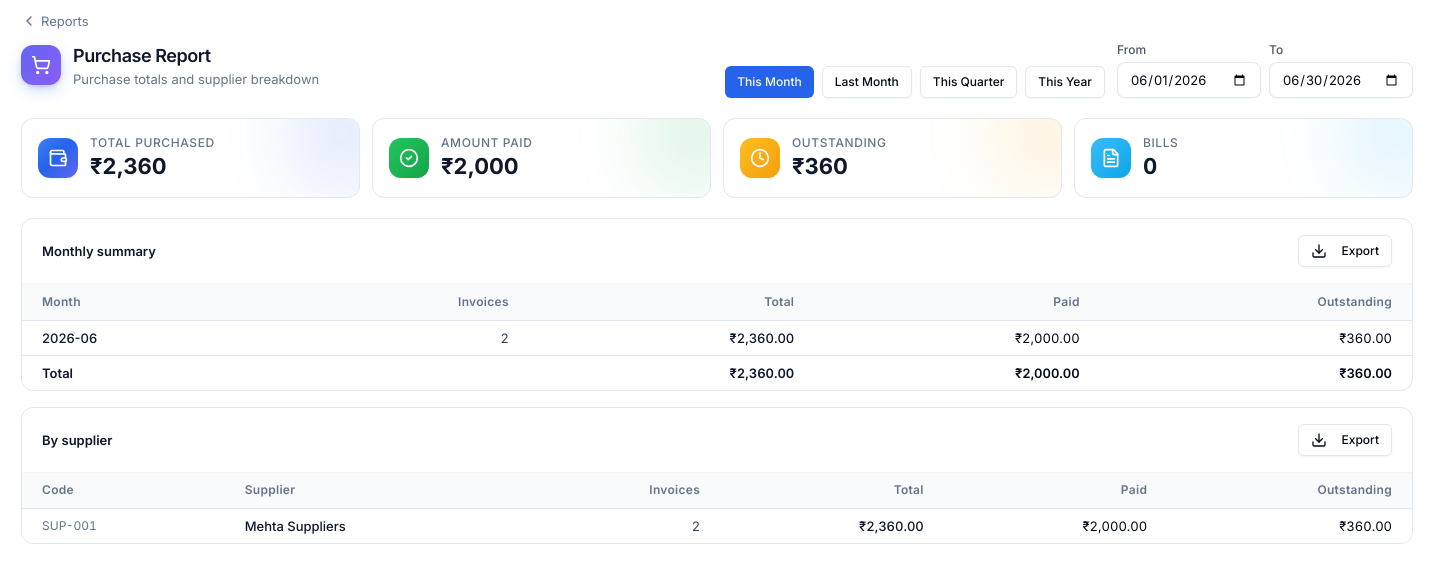
Test: PurchaseReportView › refetches and renders new data when the date range changes
Step 1. Click the button "Last Month" → point(867, 82), box 822,66 -> 912,98
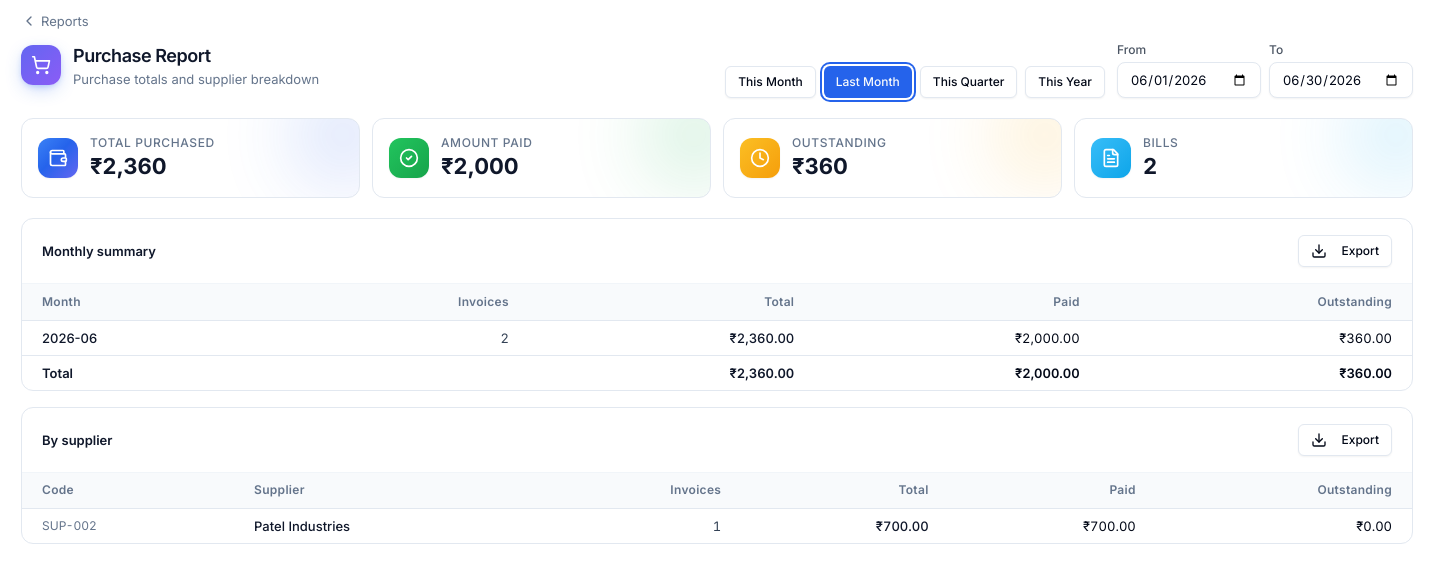
Check: the text "Patel Industries" is shown, box 234,508 -> 538,543
